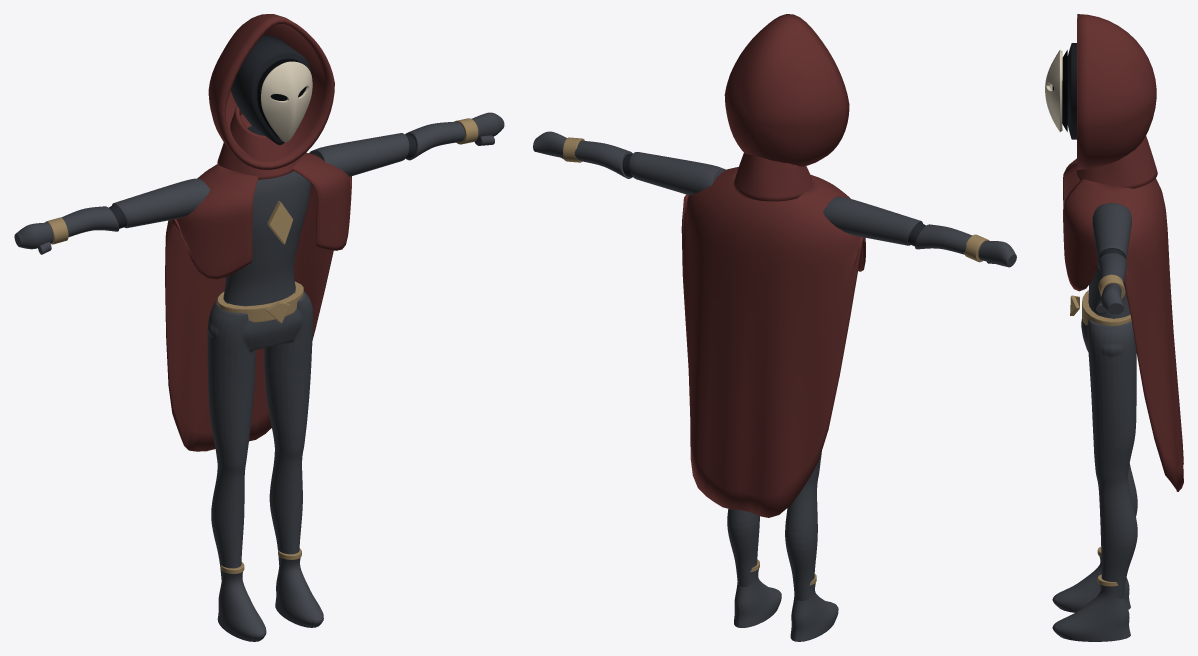
File: VeilWalker_MixamoUpload.fbx
The picture shows the model from 3 angles, left to right: view 1: azimuth 30°, elevation 25°; view 2: azimuth 150°, elevation 25°; view 3: azimuth 270°, elevation 25°; orthographic projection.
Parts seen in each view (by area): view 1: VeilWalker_MixamoUpload; view 2: VeilWalker_MixamoUpload; view 3: VeilWalker_MixamoUpload.
Boxes of the visible parts, x1=… form: VeilWalker_MixamoUpload: x1=14, y1=14, x2=504, y2=641; VeilWalker_MixamoUpload: x1=533, y1=14, x2=1016, y2=641; VeilWalker_MixamoUpload: x1=1045, y1=14, x2=1183, y2=641.
Bounding box in the file's own units: 175 × 210 × 43.75.
